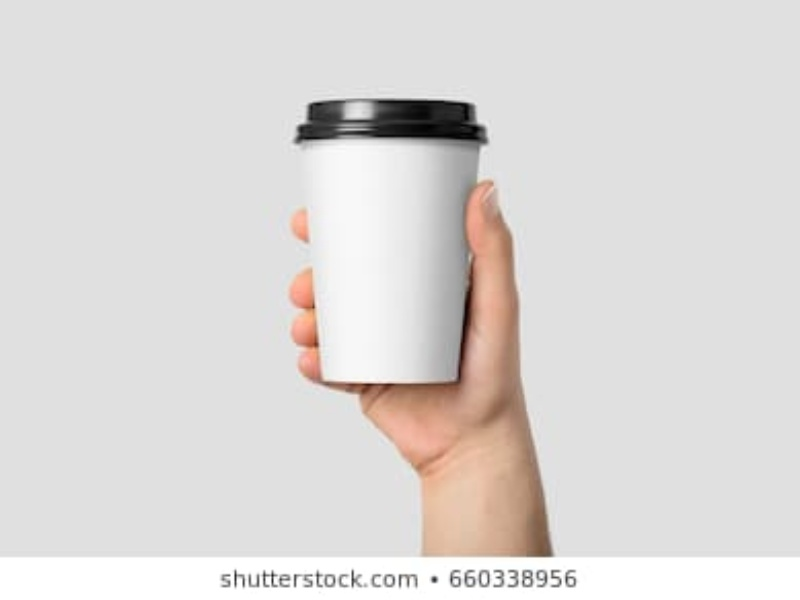coffee-lid: (296, 99, 487, 147)
plastic-cup: (292, 93, 487, 389)
